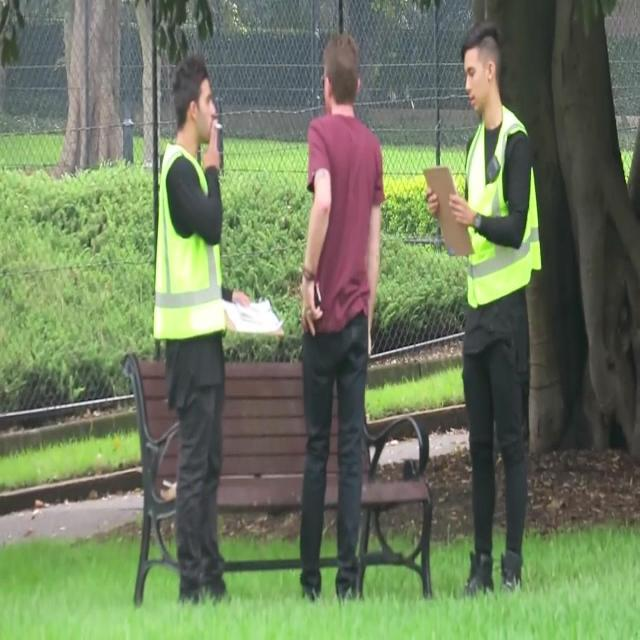Vest: (463, 105, 543, 310), (154, 145, 226, 345)
